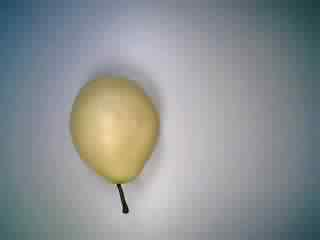pear: (56, 69, 173, 218)
